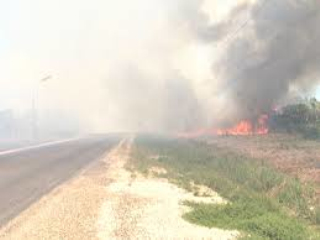fire: (213, 114, 274, 145)
smoke: (221, 9, 309, 116), (129, 57, 203, 135)
